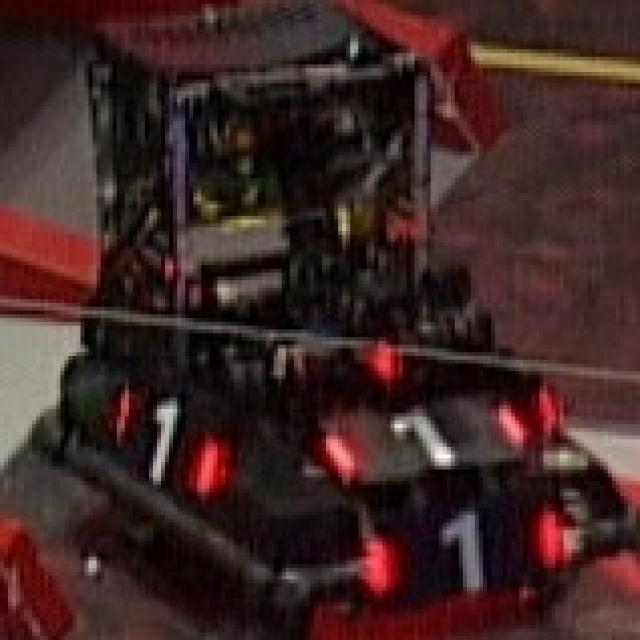R1: (344, 506, 574, 596), (304, 384, 533, 472), (93, 384, 230, 506)
